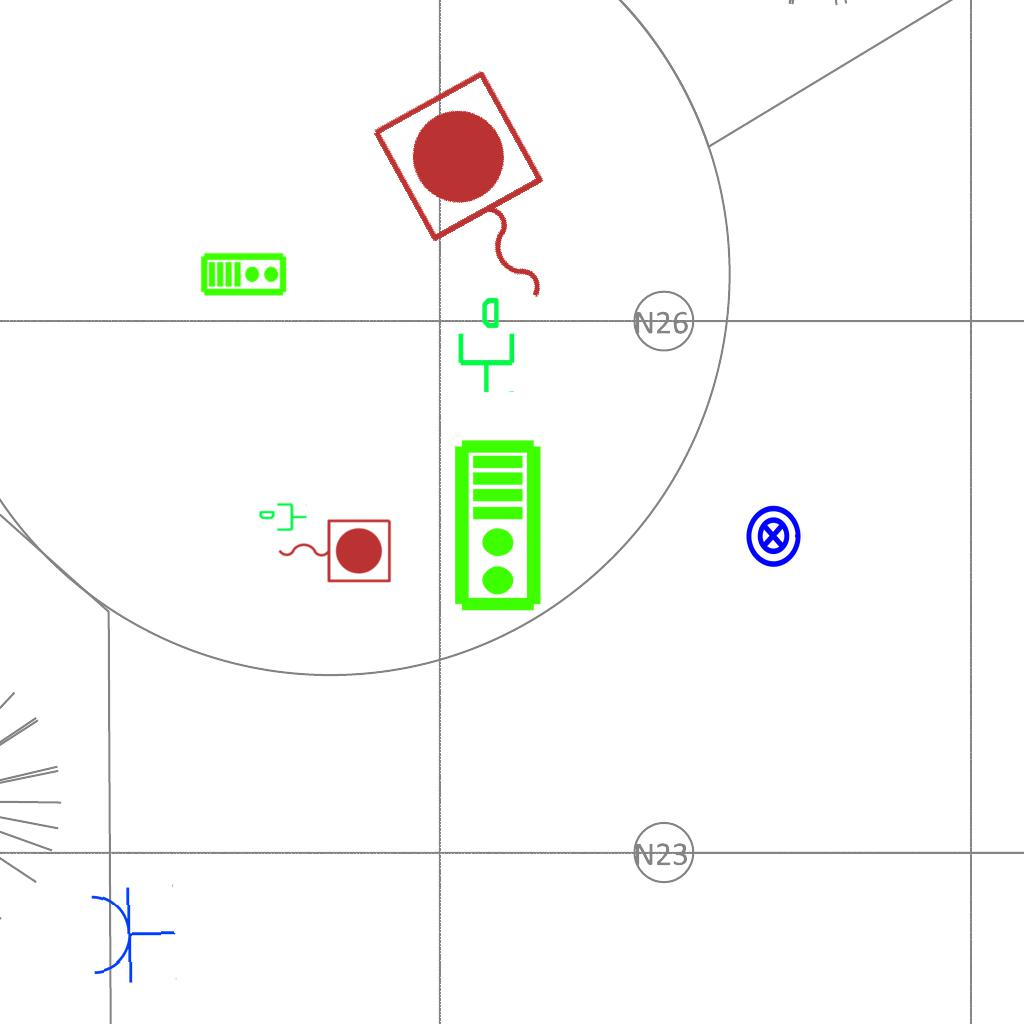Datenanschluss_einfach: (450, 295, 519, 395), (258, 501, 308, 535)
Gegensprechanlage_mit_Video: (452, 438, 547, 614), (200, 250, 288, 297)
Schukosteckdose_einfach: (86, 882, 178, 985)
Taster_beleuchtet: (740, 503, 806, 569)
Zugtaster: (358, 59, 604, 343), (273, 514, 395, 586)
